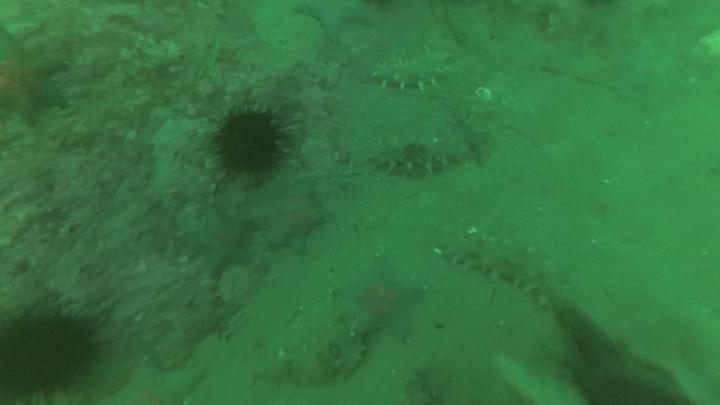echinus: (1, 317, 92, 405), (218, 112, 279, 174)
holothurian: (444, 231, 566, 312), (363, 133, 472, 178), (375, 53, 452, 90)
scallop: (475, 87, 493, 101)
starfish: (334, 258, 423, 343), (2, 29, 69, 128), (259, 187, 331, 256), (99, 358, 203, 405), (188, 205, 253, 277), (617, 52, 682, 116), (294, 2, 370, 44)
